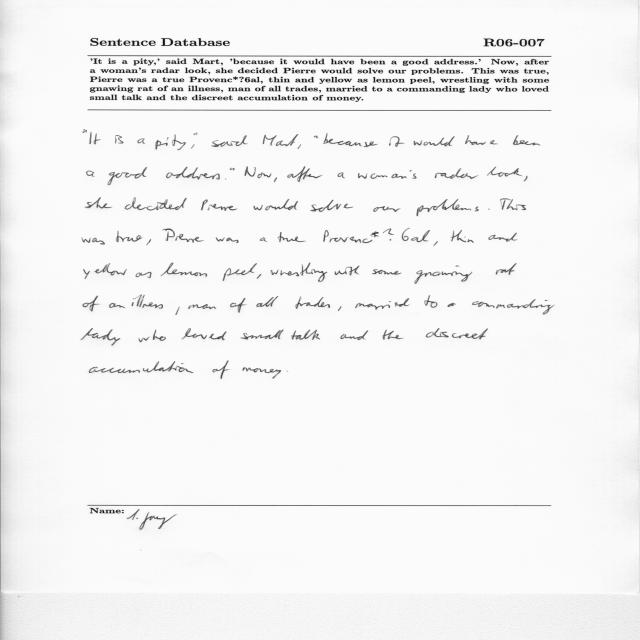word: (323, 228, 430, 243), (472, 299, 554, 315), (90, 361, 194, 373), (415, 265, 473, 284), (271, 263, 328, 282), (416, 199, 479, 216), (125, 198, 187, 211), (323, 133, 378, 147), (108, 167, 147, 185), (166, 167, 220, 180), (81, 328, 120, 346), (84, 263, 127, 279), (426, 328, 488, 339), (355, 298, 410, 310), (161, 263, 207, 277), (162, 228, 204, 243), (223, 263, 257, 281), (287, 167, 323, 182), (182, 328, 227, 340), (358, 170, 417, 179), (311, 200, 354, 212), (253, 199, 298, 210), (435, 168, 478, 179), (155, 135, 186, 150), (243, 367, 281, 379), (295, 296, 330, 309), (211, 135, 248, 147), (201, 199, 238, 211), (132, 295, 163, 309), (263, 134, 299, 146), (241, 330, 284, 340), (414, 137, 455, 147), (487, 167, 522, 177), (465, 135, 498, 145), (139, 330, 166, 342), (500, 199, 526, 211), (213, 361, 230, 379), (451, 230, 474, 243), (513, 135, 540, 146), (245, 167, 272, 178), (85, 198, 112, 209), (116, 231, 143, 242), (277, 232, 306, 242), (292, 330, 320, 340), (340, 330, 368, 340), (489, 233, 518, 242), (83, 296, 100, 311), (496, 263, 517, 275), (335, 266, 360, 276), (257, 296, 279, 307), (230, 298, 246, 313), (383, 330, 403, 340), (389, 136, 405, 147), (372, 269, 401, 275), (425, 295, 438, 308), (373, 206, 400, 212), (82, 238, 105, 245), (89, 132, 101, 144), (188, 304, 216, 309), (216, 237, 238, 243), (136, 272, 152, 278), (109, 303, 125, 308), (115, 135, 124, 143), (137, 138, 145, 144), (87, 171, 95, 177), (338, 173, 345, 179), (447, 303, 456, 307), (260, 237, 267, 242), (176, 307, 180, 315), (147, 239, 152, 245), (433, 241, 438, 246), (257, 274, 262, 279), (191, 144, 195, 149), (297, 144, 301, 149), (524, 176, 528, 181), (338, 306, 342, 311), (274, 177, 277, 182), (83, 130, 87, 133), (314, 136, 318, 139), (230, 168, 235, 170), (194, 133, 198, 135), (488, 209, 490, 210), (286, 371, 288, 372), (225, 179, 226, 180)
